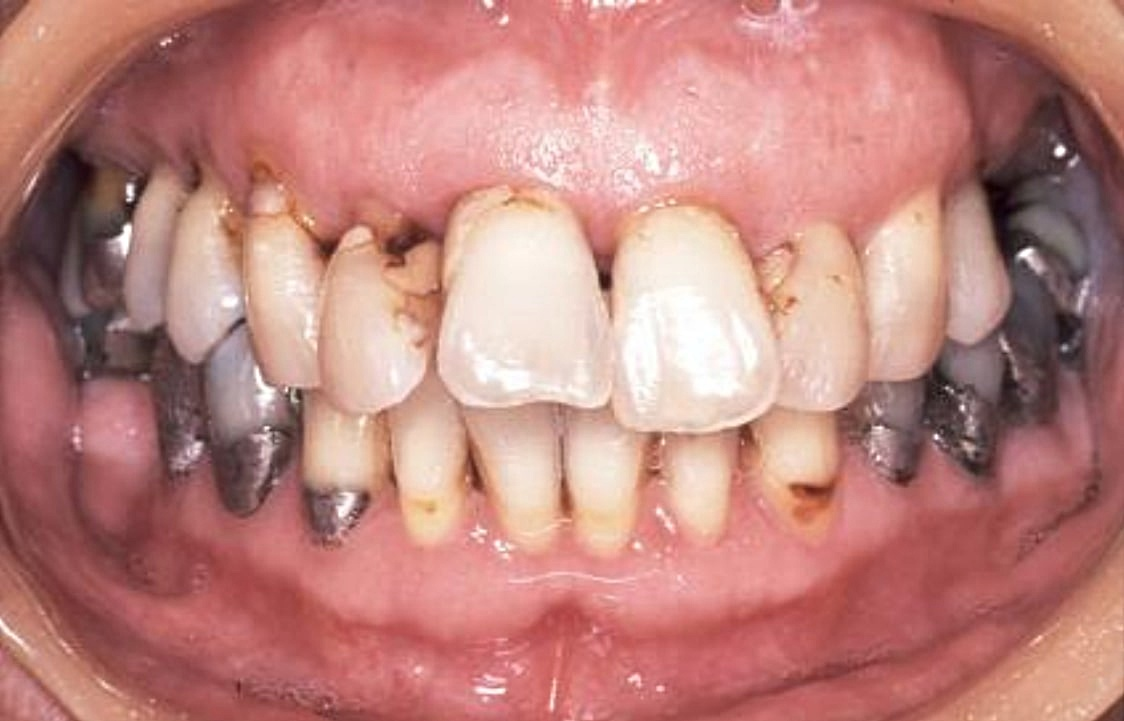karies: (373, 209, 449, 278), (234, 154, 295, 209), (748, 238, 800, 297), (170, 145, 211, 202), (493, 177, 550, 217), (784, 475, 840, 515), (410, 494, 448, 526)
